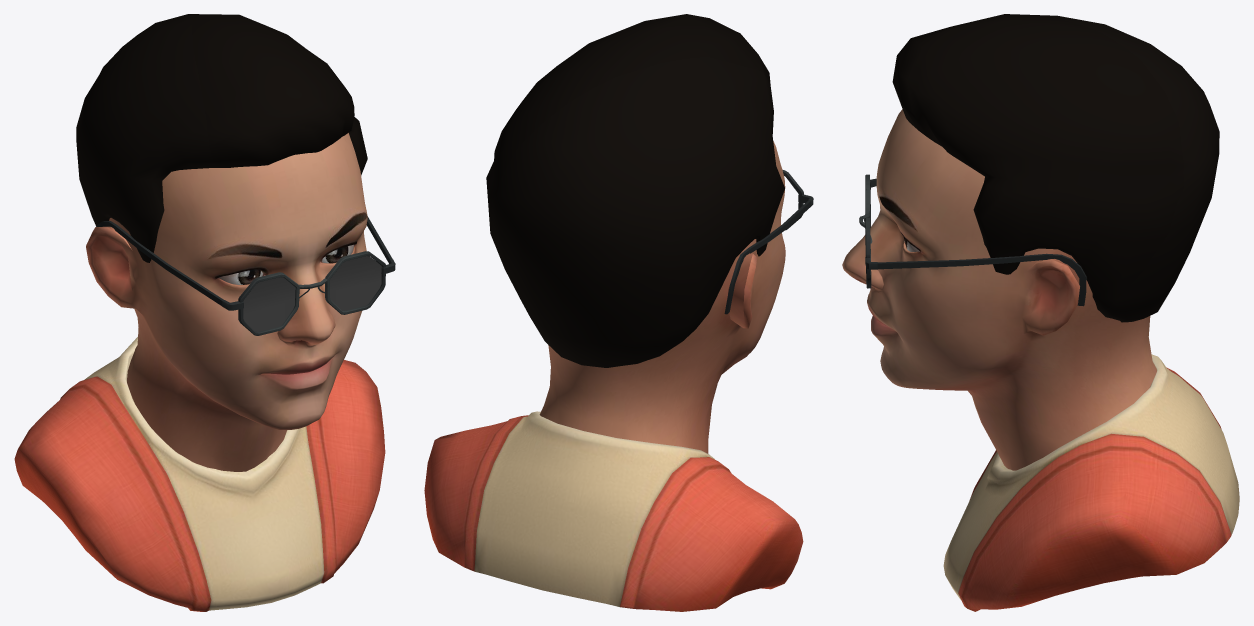
Rendered from avatar.glb.
3 views of the same model, side by side, from view 1: azimuth 30°, elevation 25°; view 2: azimuth 150°, elevation 25°; view 3: azimuth 270°, elevation 25° (orthographic). The views are drawn at different scales.
Visible parts, largest first — view 1: Wolf3D_Head, Wolf3D_Shirt, Wolf3D_Hair, Wolf3D_Glasses; view 2: Wolf3D_Hair, Wolf3D_Shirt, Wolf3D_Head, Wolf3D_Glasses; view 3: Wolf3D_Hair, Wolf3D_Head, Wolf3D_Shirt, Wolf3D_Glasses.
Boxes of the visible parts, box(x1,y1,x2,y2) form: Wolf3D_Head: box(86, 133, 367, 471); Wolf3D_Shirt: box(14, 337, 385, 611); Wolf3D_Hair: box(76, 14, 367, 262); Wolf3D_Glasses: box(96, 216, 395, 335); Wolf3D_Hair: box(486, 14, 784, 367); Wolf3D_Shirt: box(424, 411, 803, 611); Wolf3D_Head: box(539, 141, 785, 453); Wolf3D_Glasses: box(724, 170, 813, 314); Wolf3D_Hair: box(892, 14, 1219, 322); Wolf3D_Head: box(842, 109, 1156, 470); Wolf3D_Shirt: box(943, 354, 1239, 611); Wolf3D_Glasses: box(859, 174, 1086, 306).
Bounding box in the file's own units: 0.2462 × 0.3826 × 0.247.
6 materials, 6 textured.
